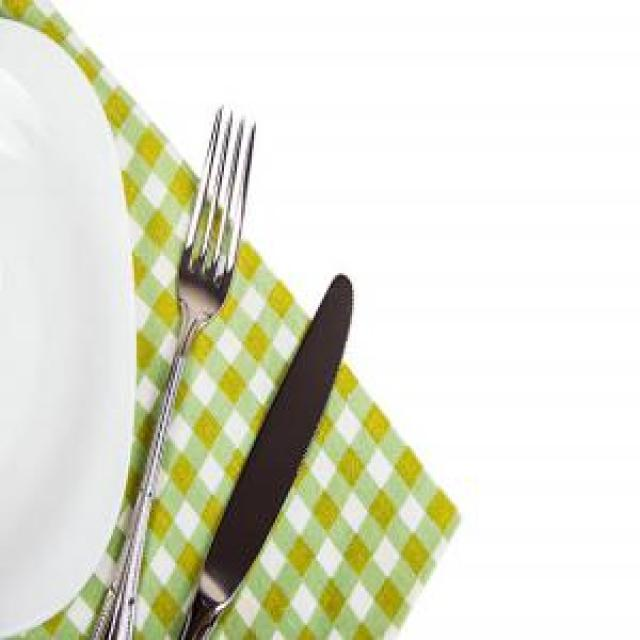knife: (181, 269, 354, 638)
